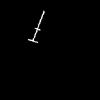double_crochet: (28, 12, 43, 42)
